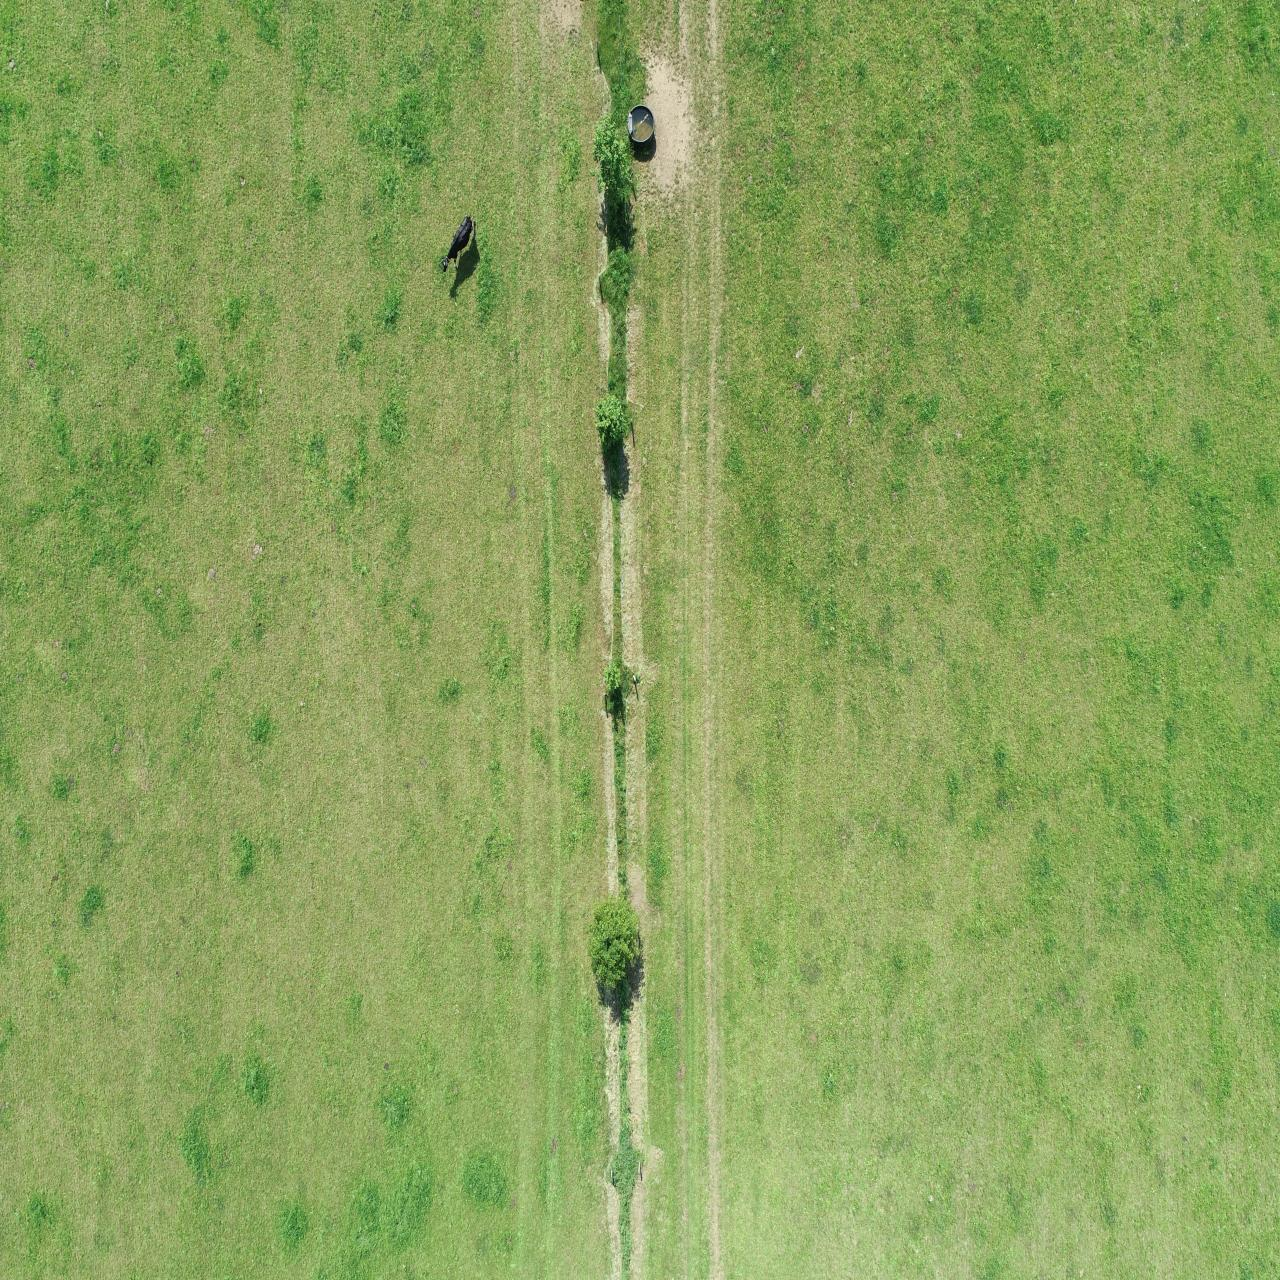cow: (437, 213, 476, 275)
